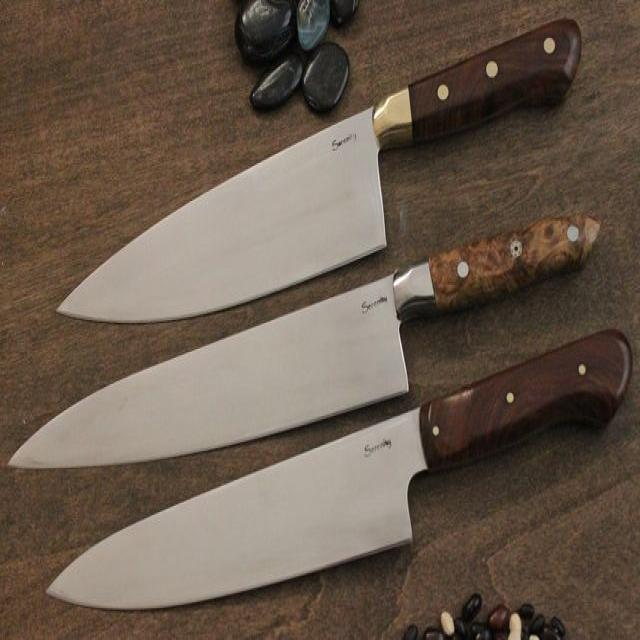knife: (46, 13, 585, 330), (46, 331, 633, 620), (5, 214, 603, 472)
